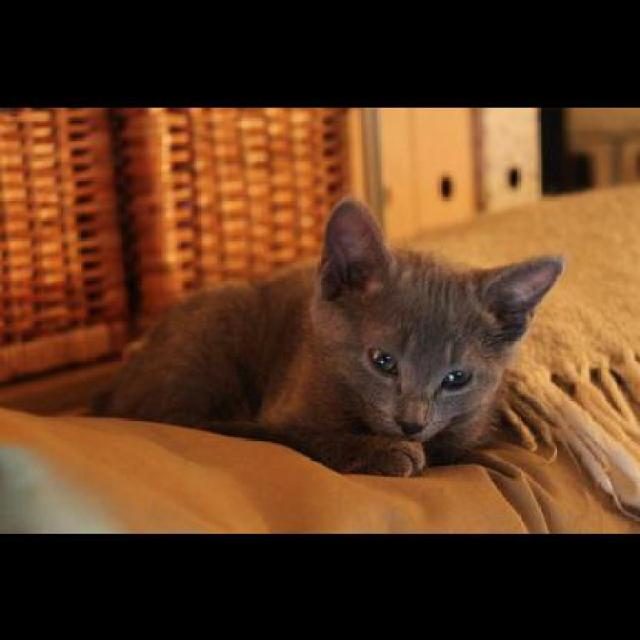unauthorized: (83, 194, 565, 478)
